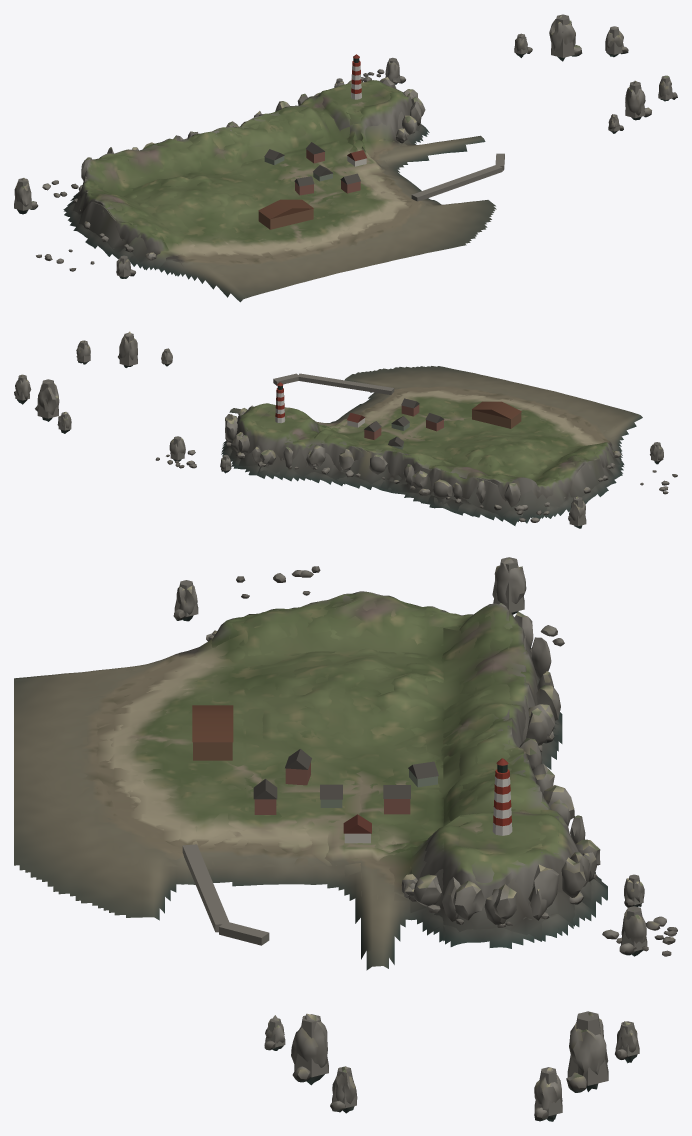
3 renders of one model, top to bottom at view 1: azimuth 30°, elevation 25°; view 2: azimuth 150°, elevation 25°; view 3: azimuth 270°, elevation 25°, orthographic. The views are drawn at different scales.
Visible parts, largest first — view 1: terrain, island_silhouette, rocks; view 2: terrain, island_silhouette, rocks; view 3: terrain, island_silhouette, rocks.
Boxes of the visible parts, <box> form: terrain: <box>64,80,496,302</box>; island_silhouette: <box>14,14,672,278</box>; rocks: <box>14,15,677,278</box>; terrain: <box>221,366,642,522</box>; island_silhouette: <box>15,333,663,526</box>; rocks: <box>14,331,677,528</box>; terrain: <box>14,591,607,970</box>; island_silhouette: <box>64,557,647,1116</box>; rocks: <box>173,558,677,1121</box>.
Bounding box in the file's own units: 395 × 48.52 × 202.
